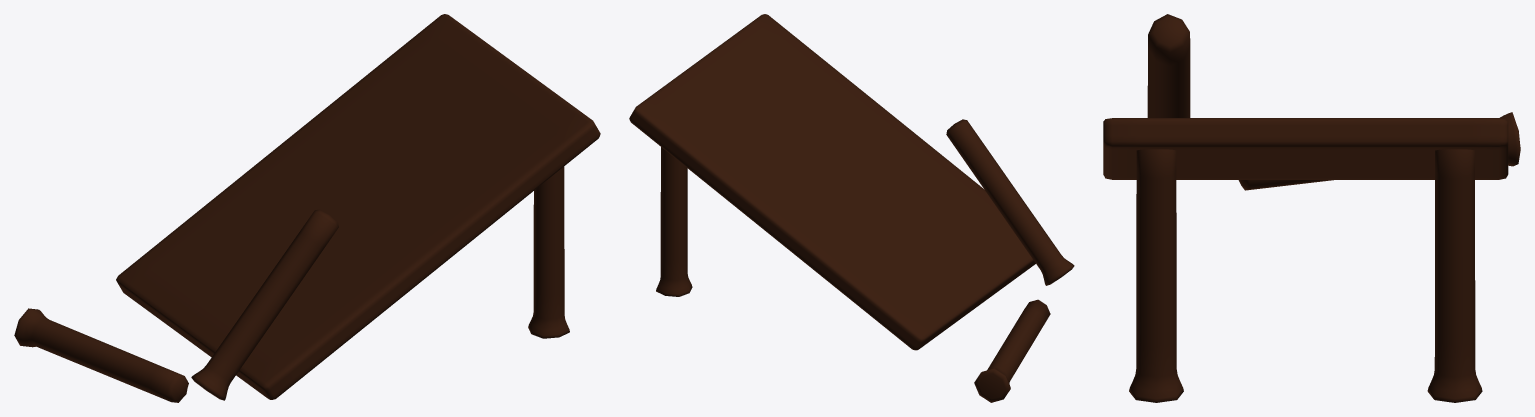
File: table_broken.fbx
The picture shows the model from 3 angles, left to right: view 1: azimuth 30°, elevation 25°; view 2: azimuth 150°, elevation 25°; view 3: azimuth 270°, elevation 25°; orthographic projection. The views are drawn at different scales.
Visible parts, largest first — view 1: Cube; view 2: Cube; view 3: Cube.
Boxes of the visible parts, bbox=[...] form: Cube: bbox=[14, 14, 600, 402]; Cube: bbox=[629, 14, 1074, 402]; Cube: bbox=[1103, 14, 1520, 402].
Size of the model in its own units: 812 by 417 by 499.
